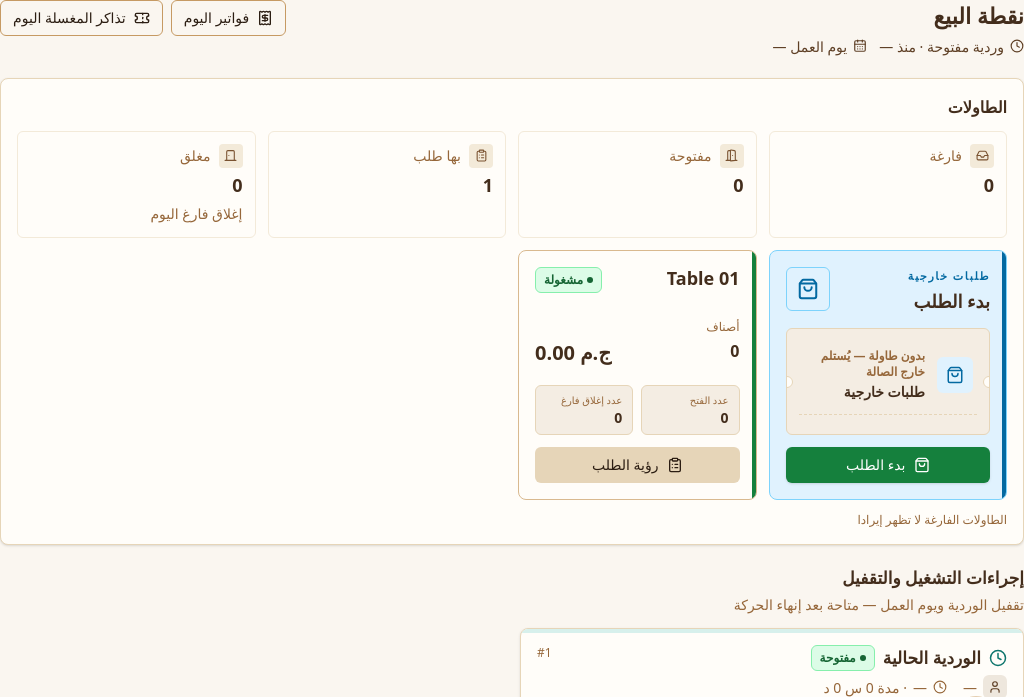
it: payment entry — one direct action (issues 1 & 2) › keeps both shortcuts when the rounded amount genuinely differs
Click the button "رؤية الطلب": [637, 466] box [535,448,740,484]
(page scrolled)
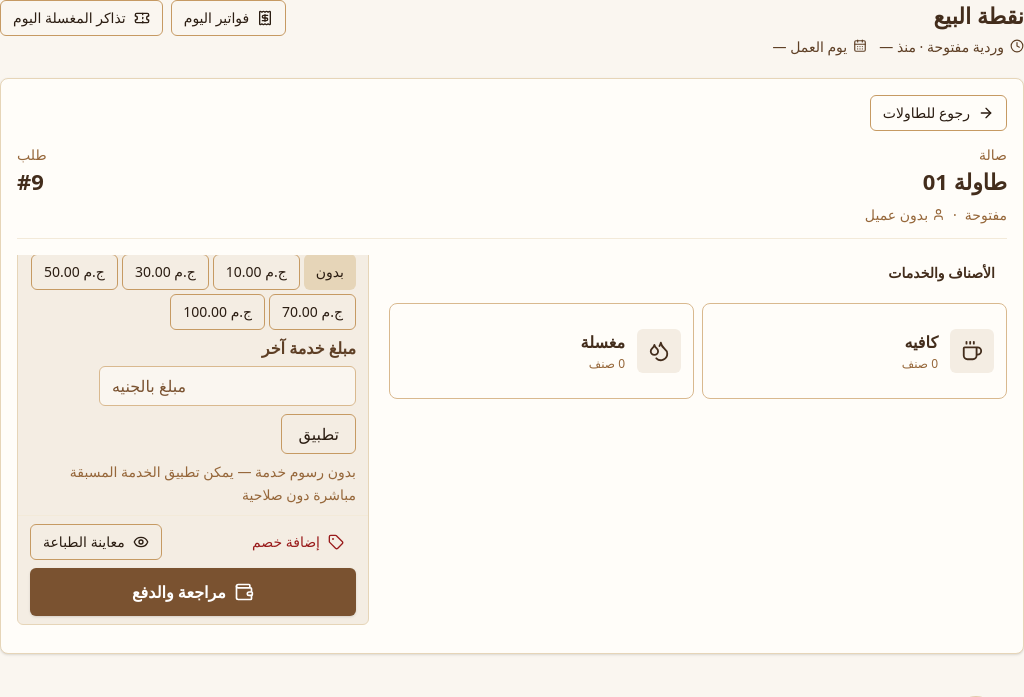
Click the button "مراجعة والدفع": [193, 592] box [30,568,356,616]
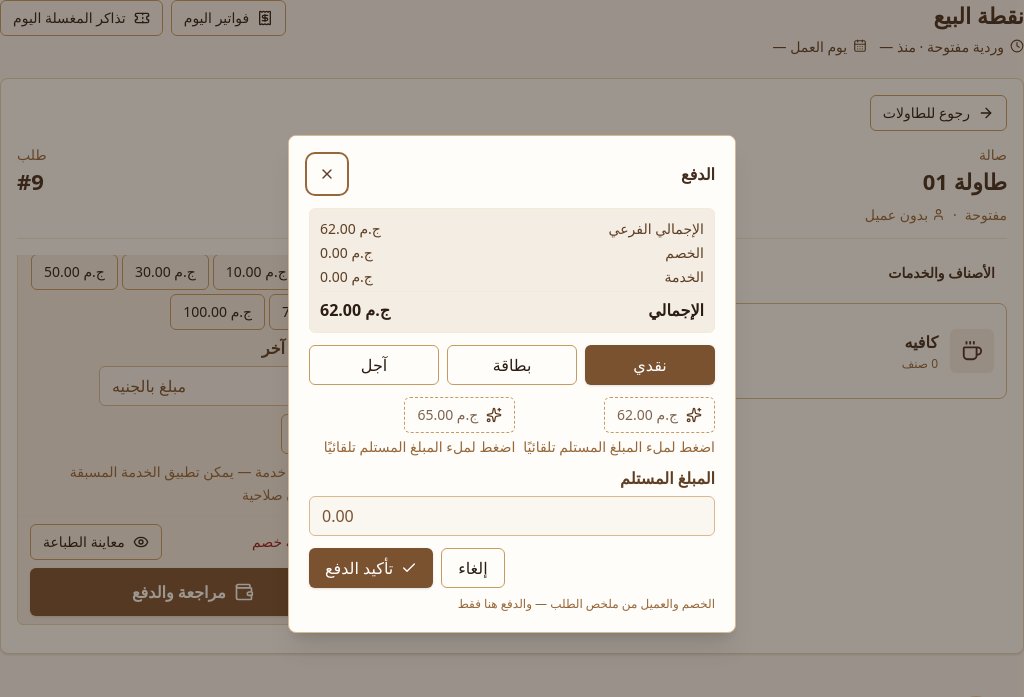
Check: the number of buttons named "ملء المبلغ المستلم تلقائيًا" is 2
Click the button named "ملء المبلغ المستلم تلقائيًا": [460, 415] box [404,397,515,433]
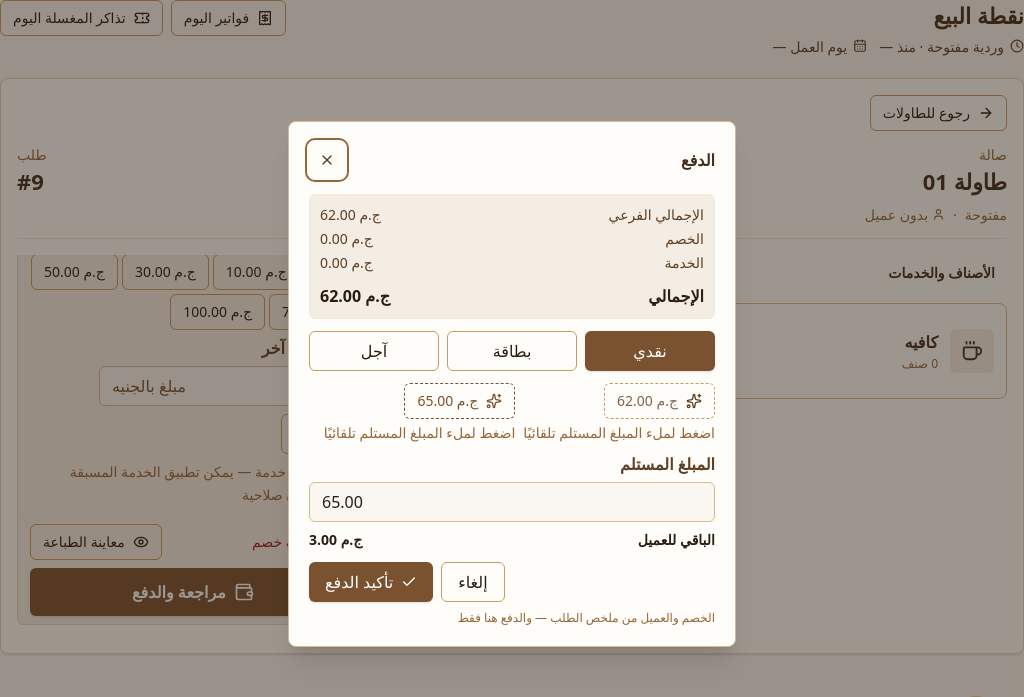
Check: the field with placeholder "0.00" holds "65.00", box [309,482,715,522]
